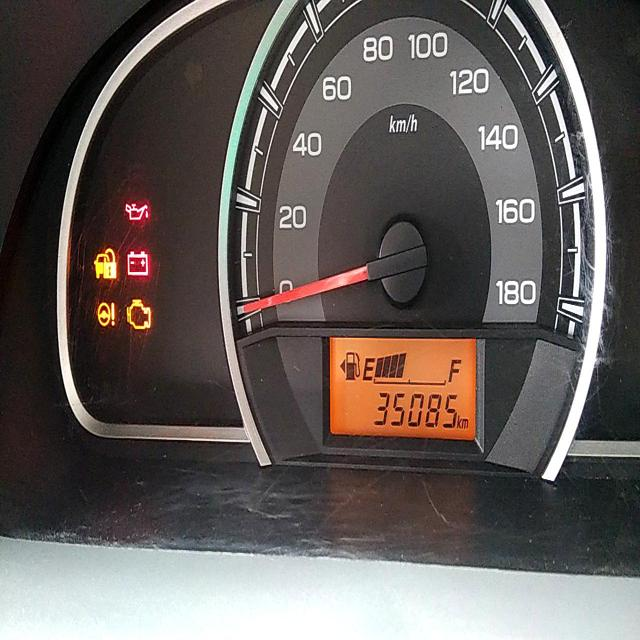odometer: (372, 386, 459, 431)
